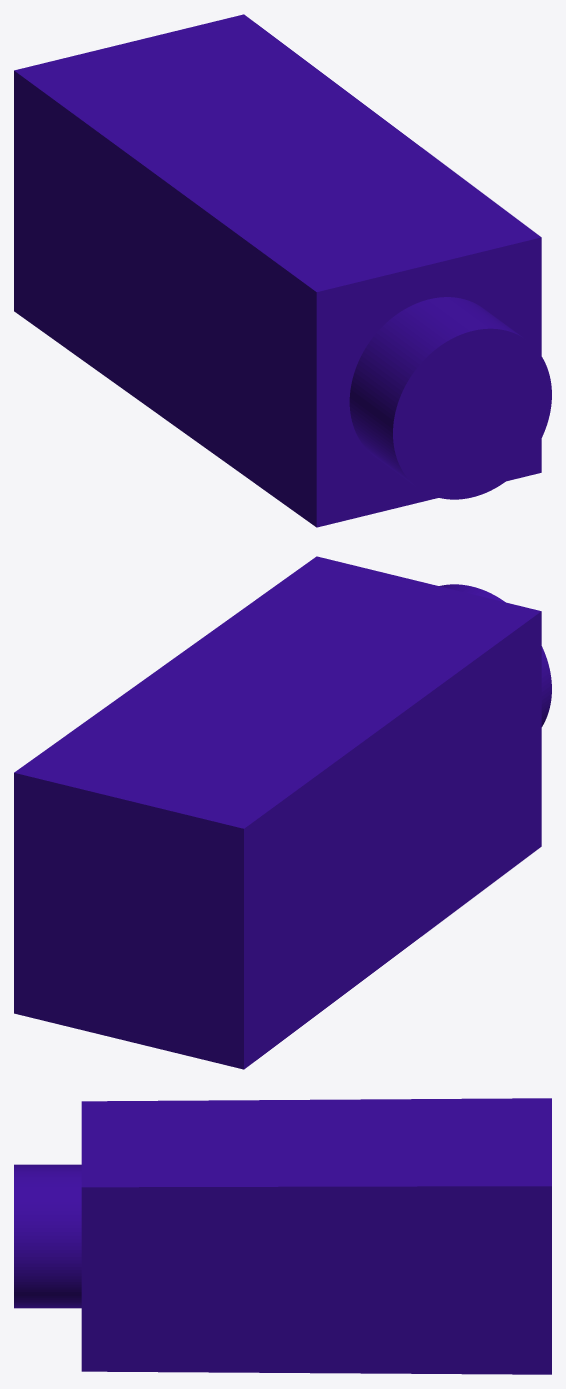
3 renders of one model, top to bottom at view 1: azimuth 30°, elevation 25°; view 2: azimuth 150°, elevation 25°; view 3: azimuth 270°, elevation 25°, orthographic. The views are drawn at different scales.
Visible parts, largest first — view 1: node; view 2: node; view 3: node.
Part boxes in pixels (x1=…): node: x1=14, y1=14, x2=551, y2=527; node: x1=14, y1=556, x2=551, y2=1069; node: x1=14, y1=1098, x2=551, y2=1374.
Size of the model in its own units: 0.0582 by 0.0582 by 0.1506.
